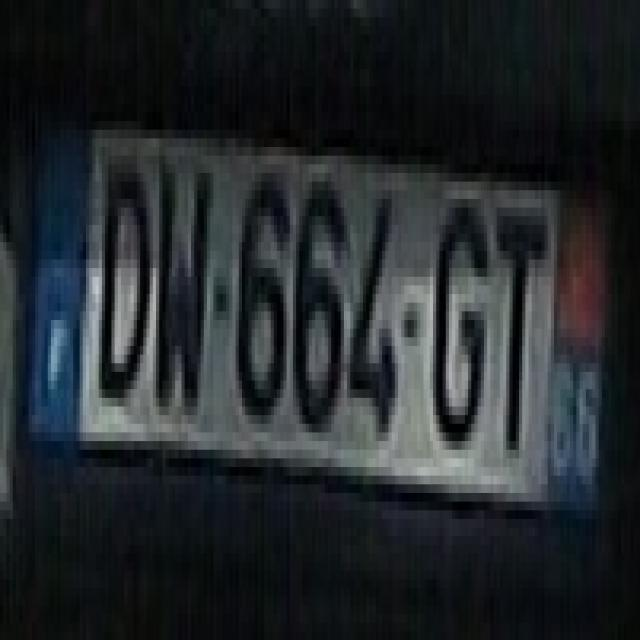EU: (28, 116, 612, 520)
France: (31, 144, 90, 439)
